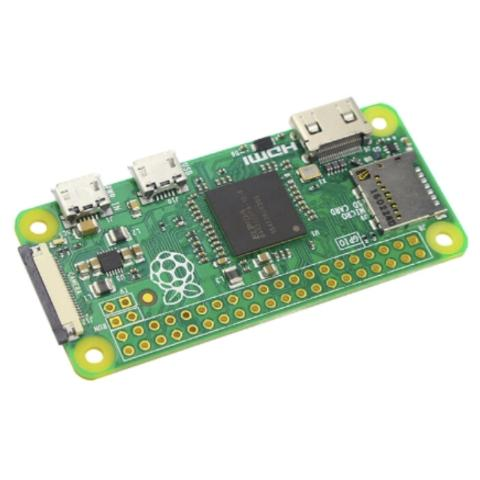Raspberry-Pi-Zero: (13, 96, 469, 382)
